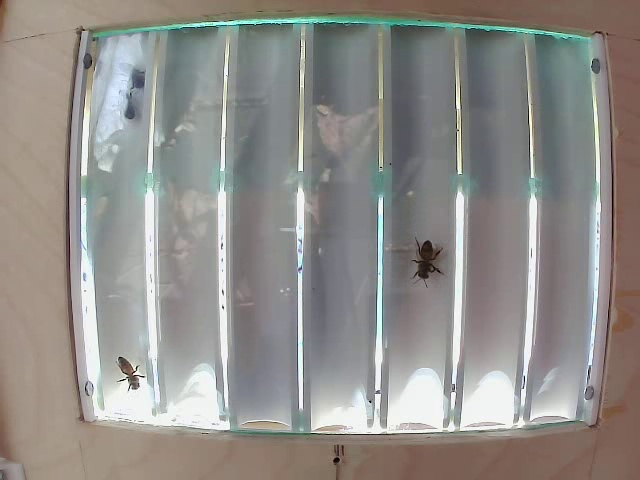bee: (410, 221, 446, 290), (114, 352, 150, 388)
